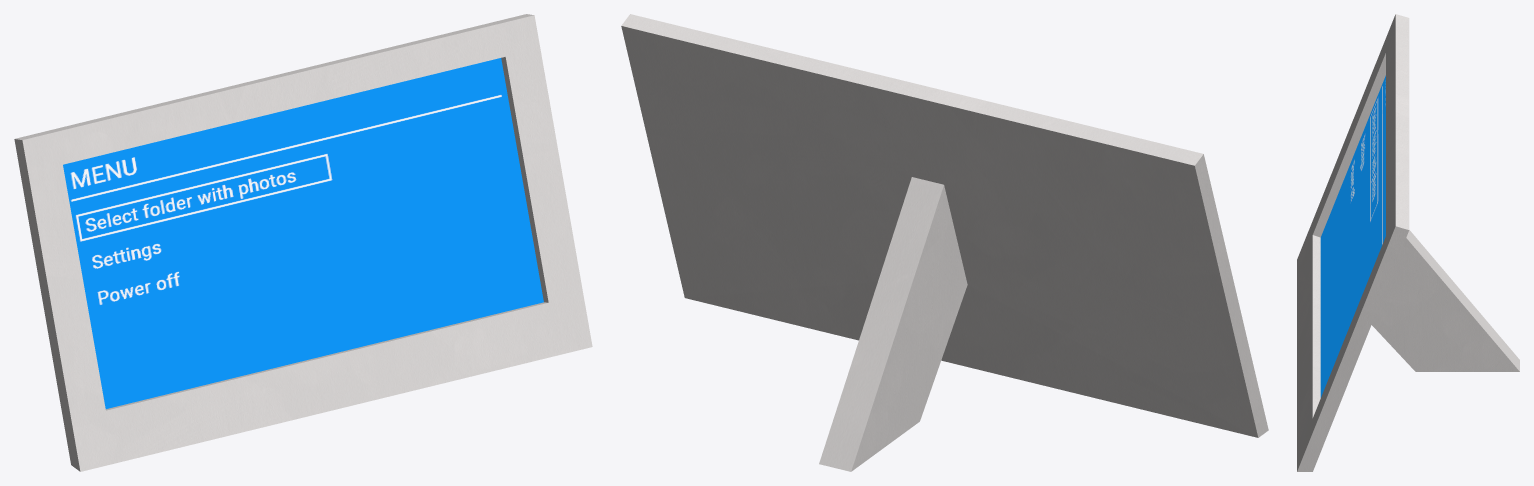
The model's file is Scp1223.glb.
3 views of the same model, side by side, from view 1: azimuth 30°, elevation 25°; view 2: azimuth 150°, elevation 25°; view 3: azimuth 270°, elevation 25° (orthographic). The views are drawn at different scales.
Visible parts, largest first — view 1: Cube; view 2: Cube; view 3: Cube.
Boxes of the visible parts, x1=… form: Cube: x1=14, y1=14, x2=592, y2=471; Cube: x1=621, y1=14, x2=1268, y2=471; Cube: x1=1297, y1=14, x2=1519, y2=471.
Size of the model in its own units: 3.56 by 1.92 by 1.58.
Materials: 2 (2 with a texture image).
